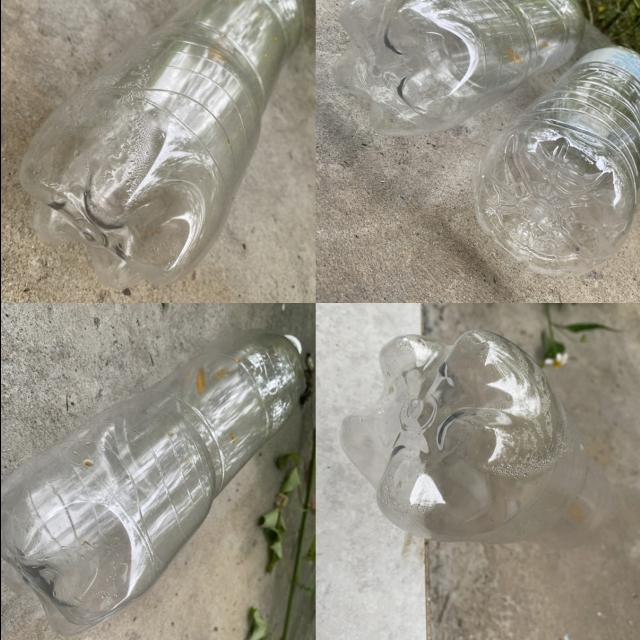plastik: (0, 330, 301, 636), (19, 0, 303, 288), (341, 331, 611, 546), (473, 47, 640, 275), (333, 0, 583, 136)
